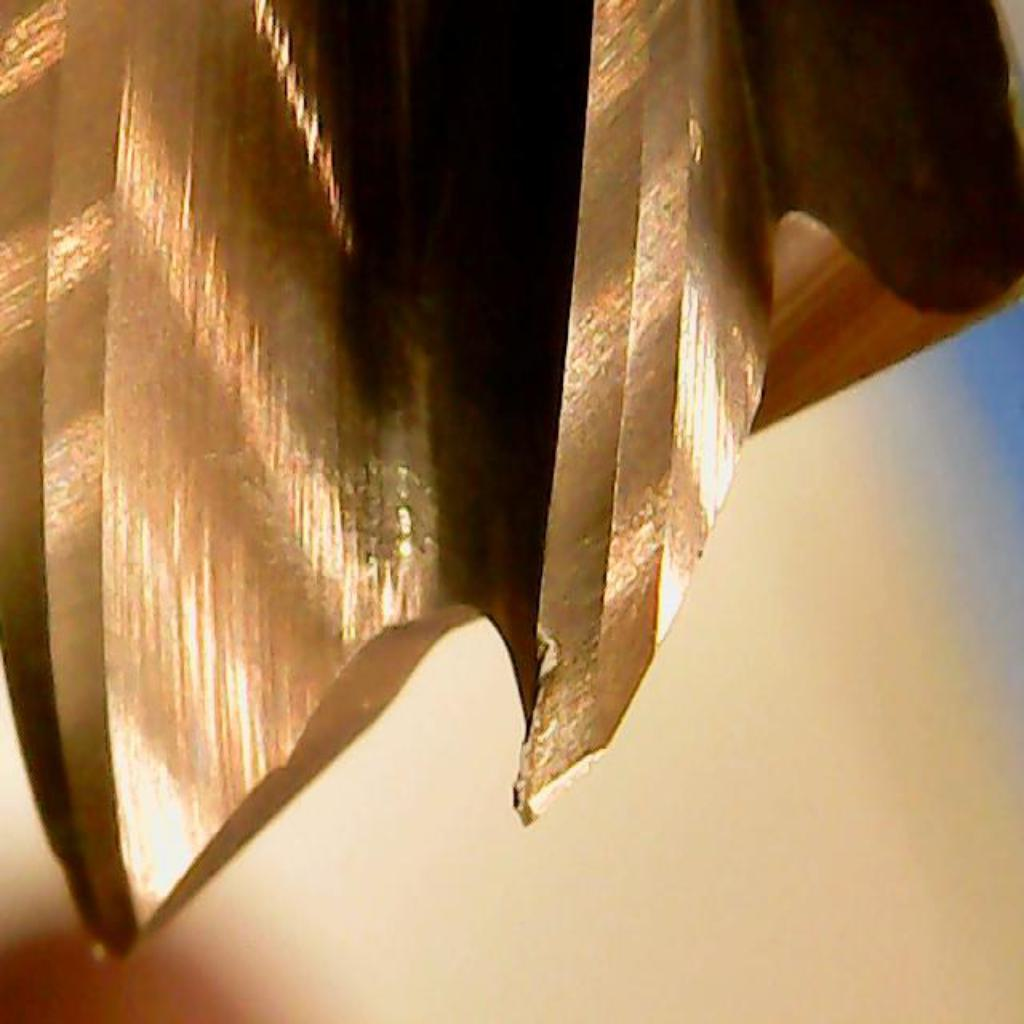Tool-wear-class-1: (490, 337, 674, 829)
